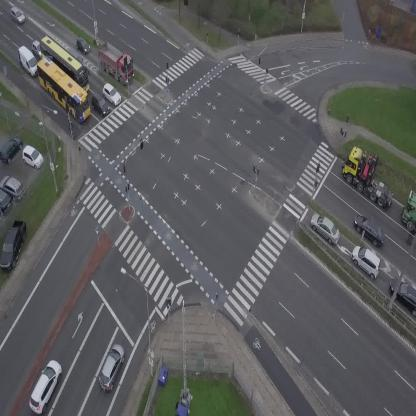bus: (29, 53, 100, 123), (33, 34, 99, 93)
car: (24, 357, 66, 415), (349, 209, 392, 250), (95, 342, 129, 392), (345, 242, 386, 280), (305, 210, 345, 246), (98, 81, 124, 107), (87, 92, 112, 119), (71, 35, 93, 57), (7, 5, 27, 27), (70, 49, 86, 63), (31, 40, 39, 58)
lorry: (334, 142, 409, 211), (88, 37, 143, 88), (12, 43, 43, 80), (402, 192, 416, 232)
